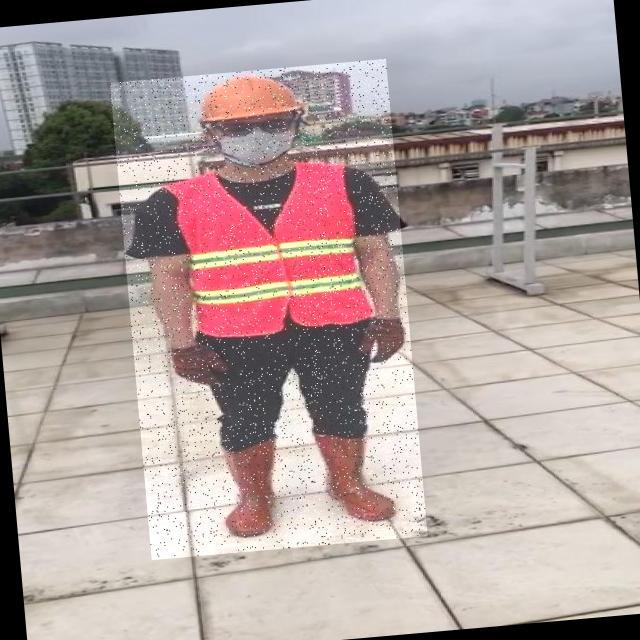Gloves: (169, 343, 227, 390), (361, 316, 404, 363)
Helmet: (189, 67, 306, 128)
Human: (110, 59, 428, 560)
Safety Boot: (304, 427, 398, 526), (221, 440, 284, 535)
Safety Vest: (163, 162, 372, 339)
